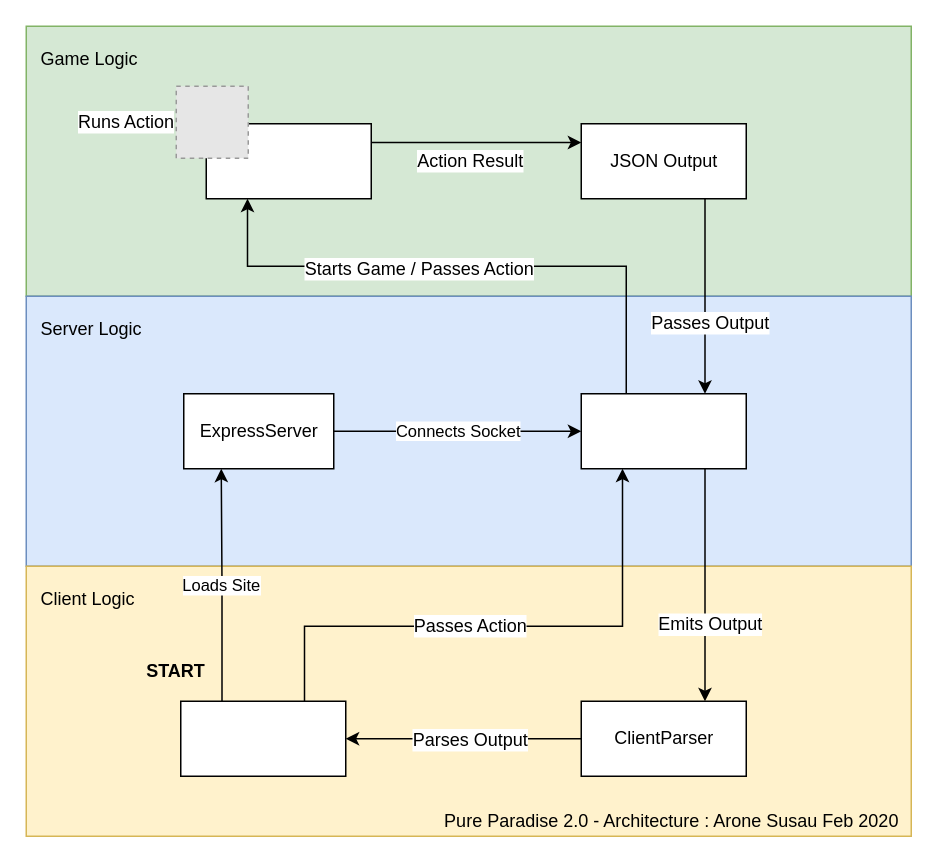
Some shapes in this 938 by 863 pixel diagram are drawn without their labels. Grey dashed boxes stand in for pictures. Here are the shapes that lost their labels. From the top down, the centre of each, then its label:
At (x=288, y=160): "GameEngine".
At (x=663, y=430): "SocketIO".
At (x=262, y=738): "ClientUI".
